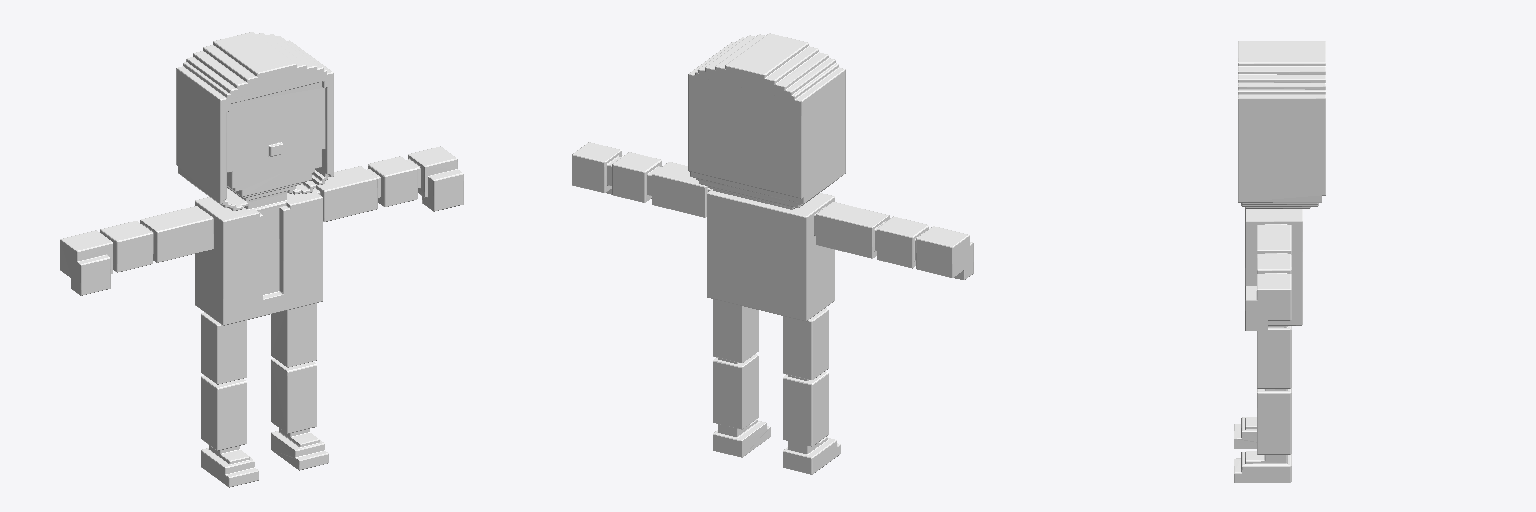
File: UNIVERSITARY_OPTIMIZED.obj
3 renders of one model, left to right at view 1: azimuth 30°, elevation 25°; view 2: azimuth 150°, elevation 25°; view 3: azimuth 270°, elevation 25°, orthographic.
Parts seen in each view (by area): view 1: universitary_student.001; view 2: universitary_student.001; view 3: universitary_student.001.
Part boxes in pixels (bbox=[...]): universitary_student.001: bbox=[60, 32, 463, 487]; universitary_student.001: bbox=[572, 33, 973, 474]; universitary_student.001: bbox=[1234, 41, 1325, 482].
Bounding box in the file's own units: 114 × 116 × 24.